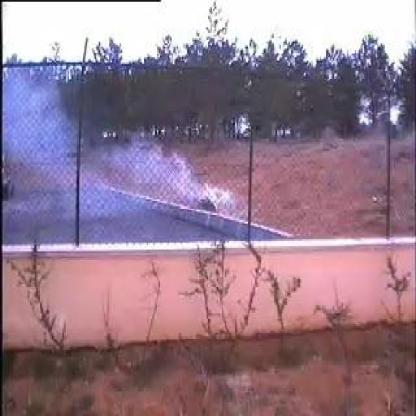-: (37, 74, 232, 207)
